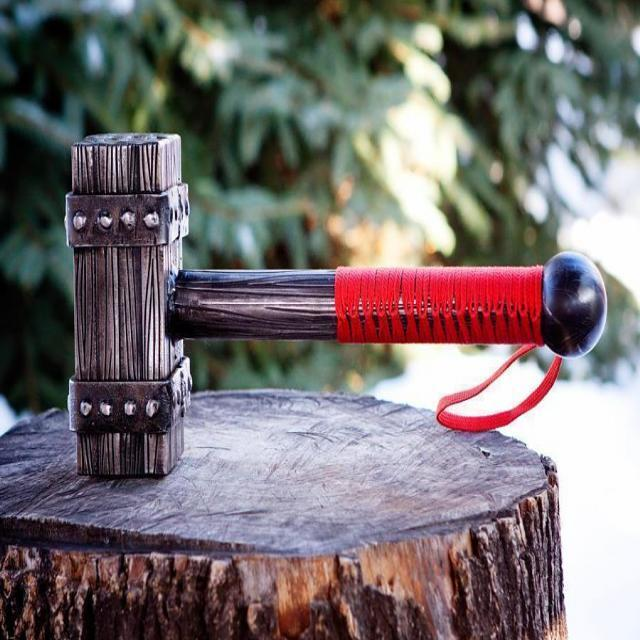hammer: (62, 114, 615, 496)
